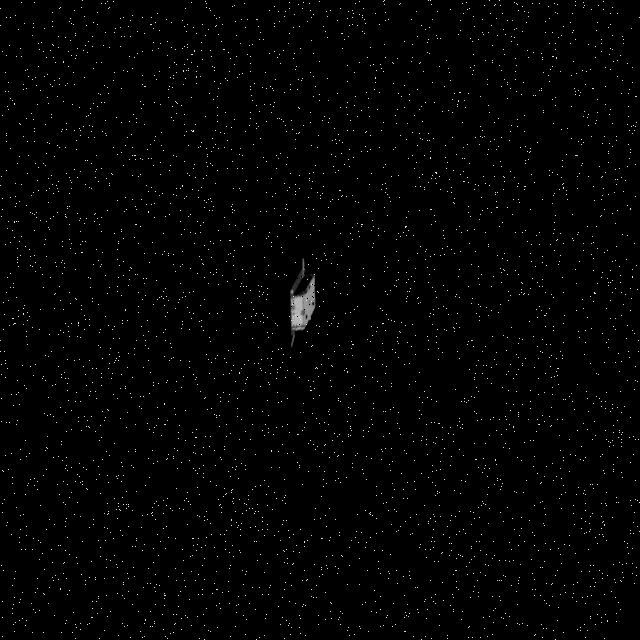medium_debris: (284, 260, 330, 356)
